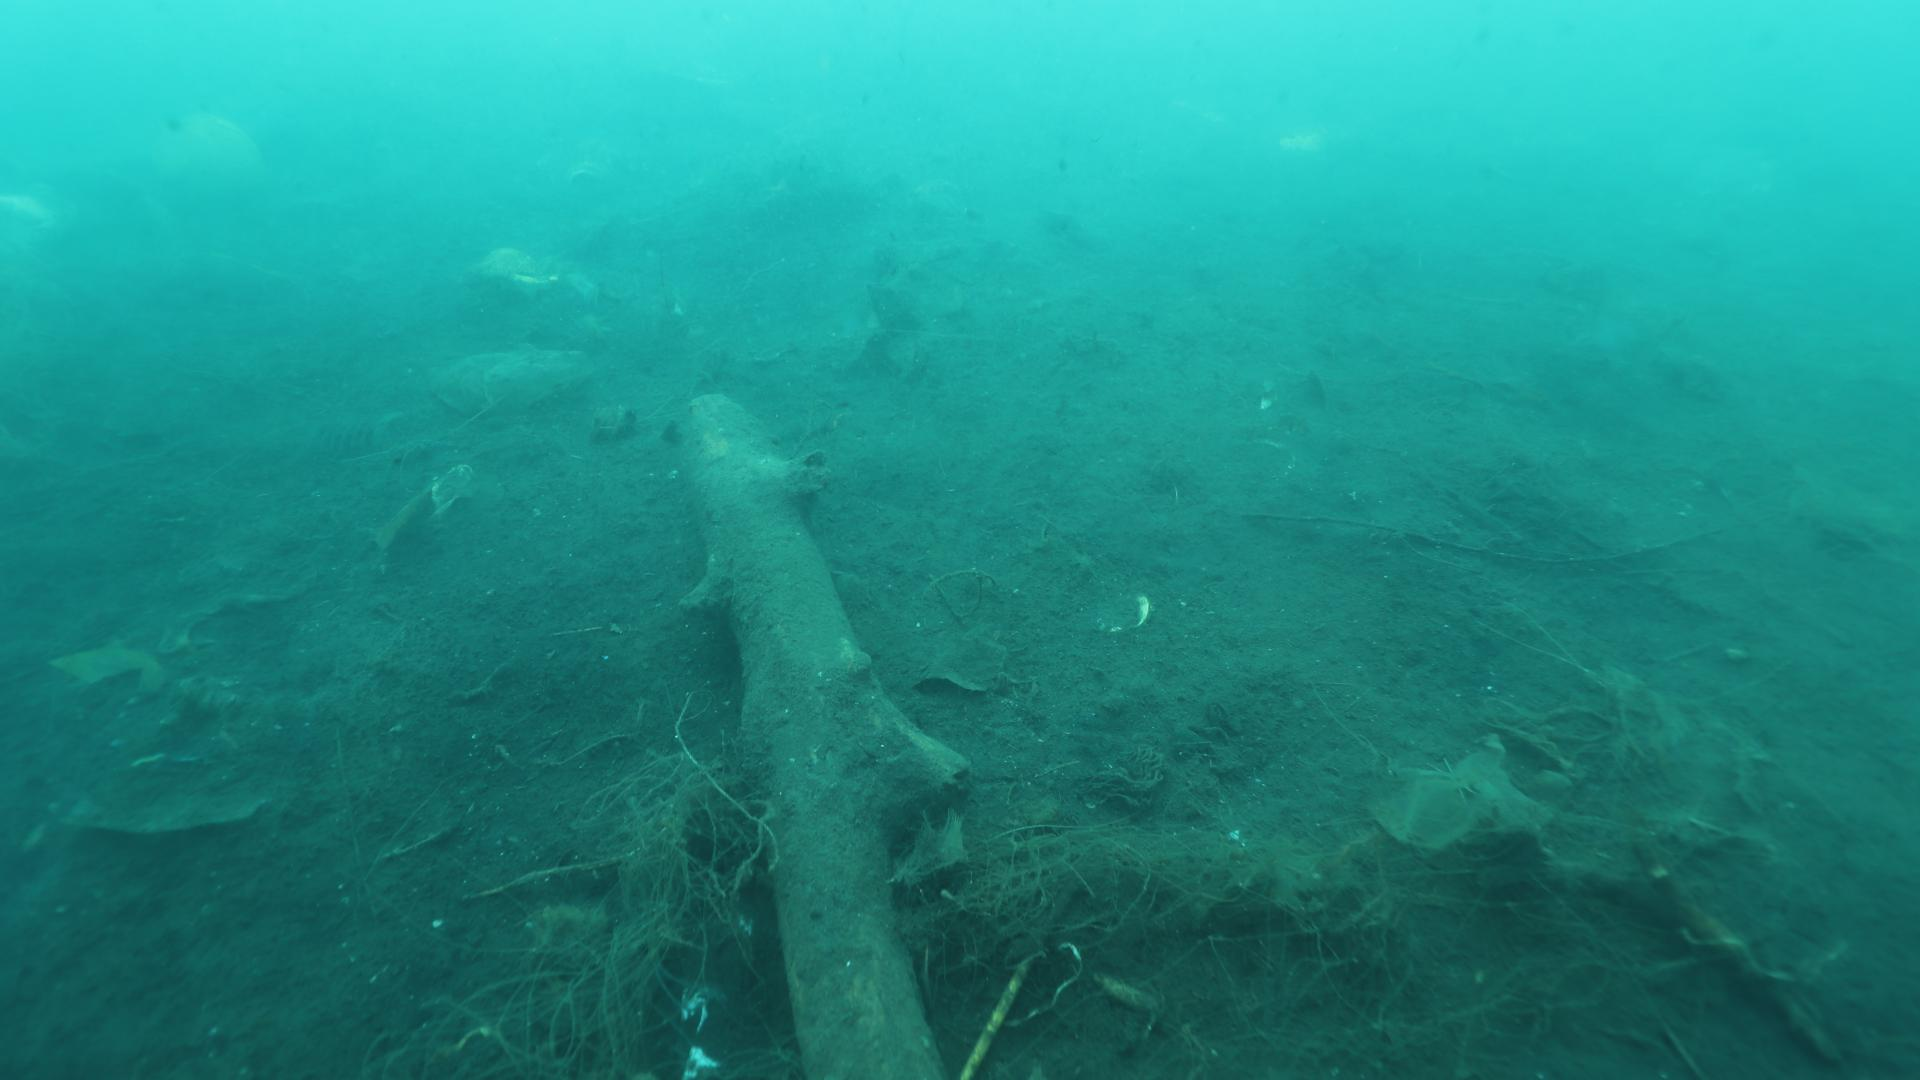wood: (670, 392, 942, 1080)
